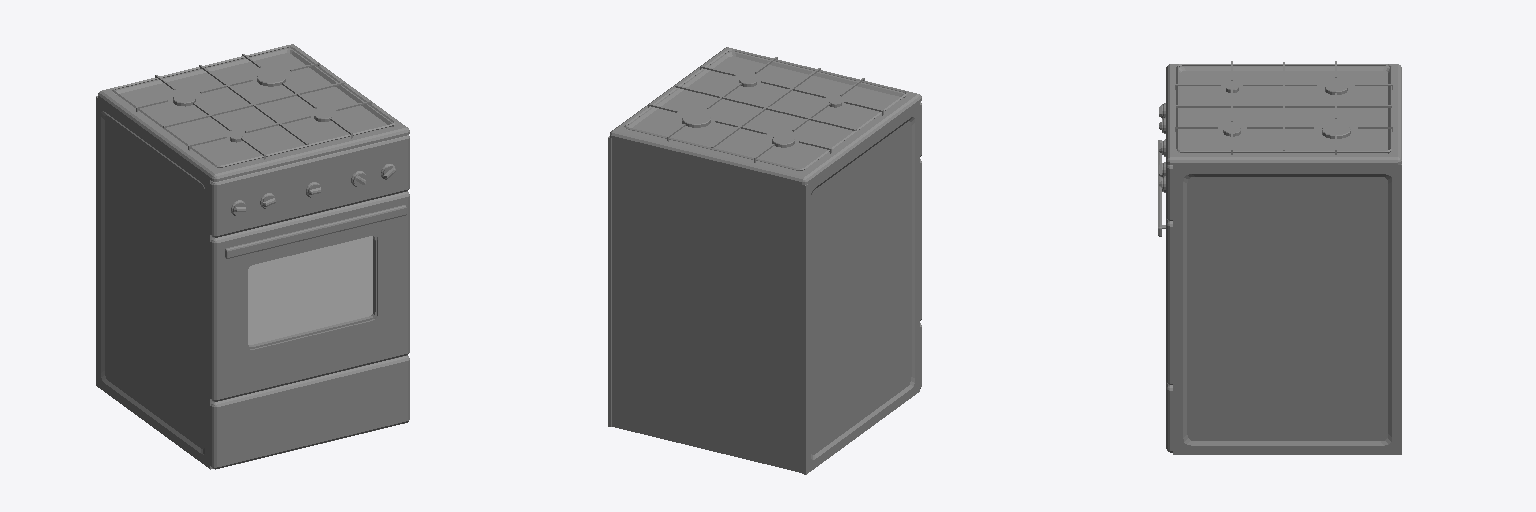
File: stove.obj
The picture shows the model from 3 angles: view 1: azimuth 30°, elevation 25°; view 2: azimuth 150°, elevation 25°; view 3: azimuth 270°, elevation 25°; orthographic projection.
Visible parts, largest first — view 1: GasStove_Меш, Glass_Меш.001; view 2: GasStove_Меш; view 3: GasStove_Меш.
Part boxes in pixels (bbox=[...]): GasStove_Меш: bbox=[96, 44, 409, 469]; Glass_Меш.001: bbox=[248, 236, 372, 344]; GasStove_Меш: bbox=[608, 47, 921, 474]; GasStove_Меш: bbox=[1158, 61, 1401, 454].
Bounding box in the file's own units: 0.7 × 1.01 × 0.7481.